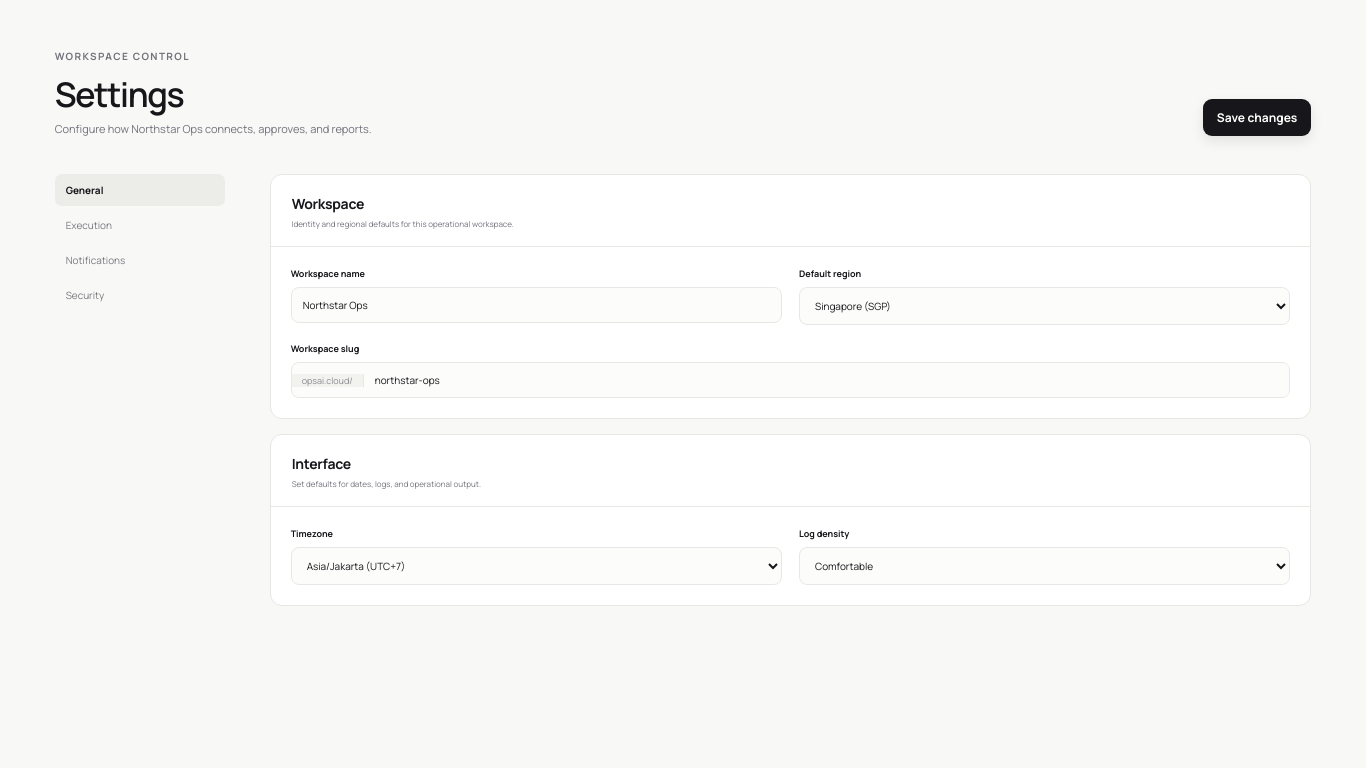
Settings & Profile Pages › loads and saves workspace settings
In the field showing "Northstar Ops": (536, 305) x1=291 y1=287 x2=782 y2=323, type "Renamed Ops"
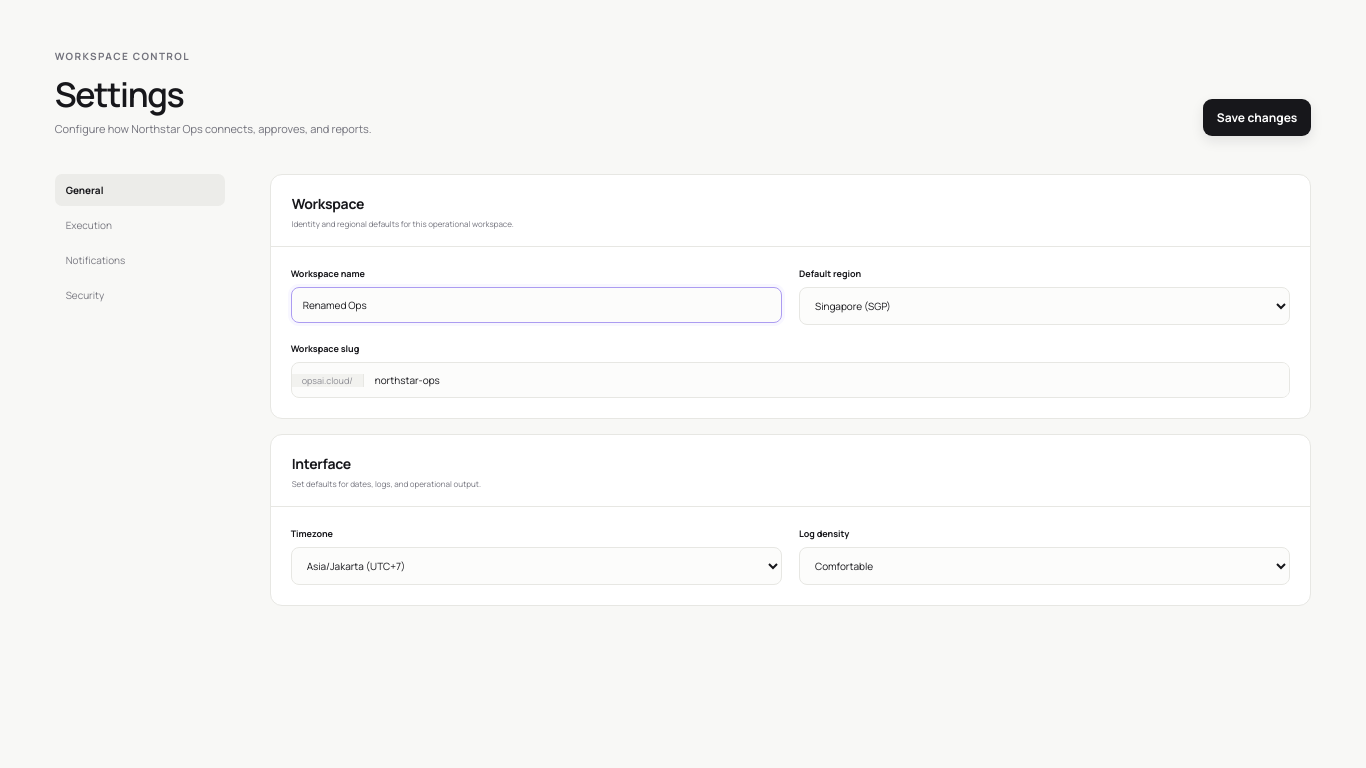
Click the button "Save changes": (1257, 118) x1=1203 y1=99 x2=1311 y2=136
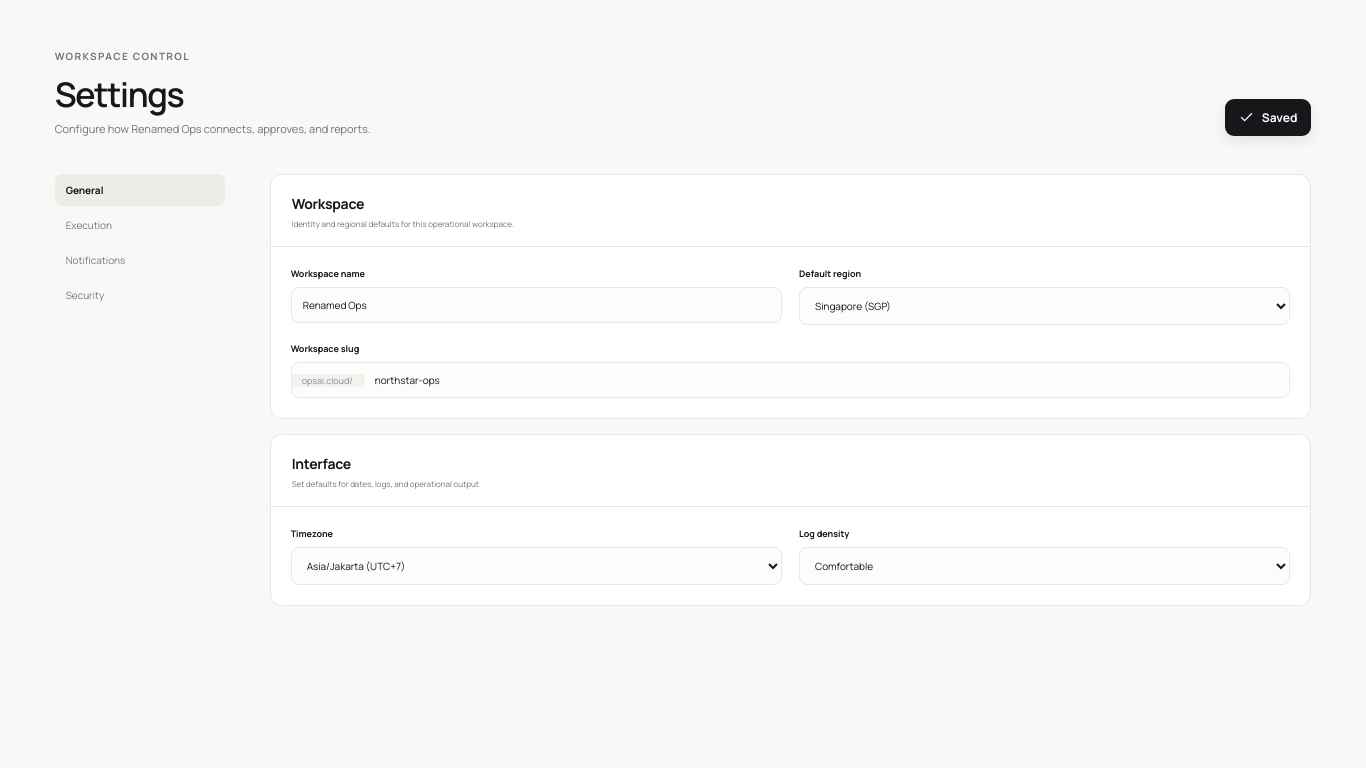
expect the button "Saved" is shown: met, box x1=1225 y1=99 x2=1311 y2=136
